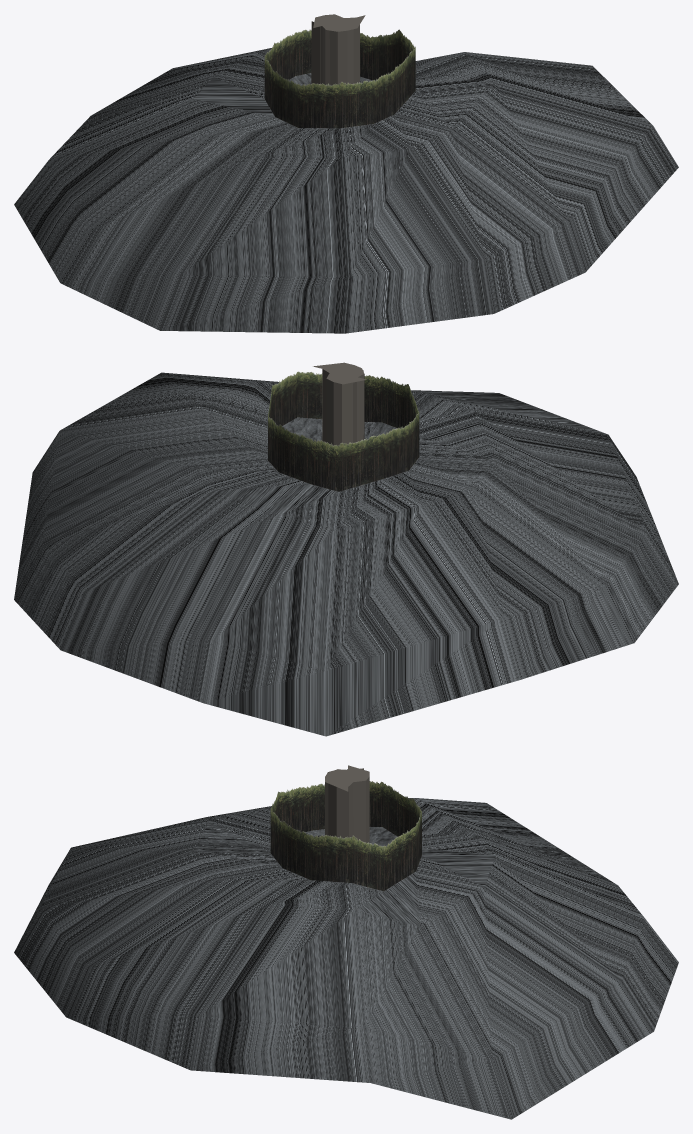
The model's file is Dragonfly_Depths.fbx.
3 views of the same model, one above another, from view 1: azimuth 30°, elevation 25°; view 2: azimuth 150°, elevation 25°; view 3: azimuth 270°, elevation 25° (orthographic). The views are drawn at different scales.
Visible parts, largest first — view 1: ExternalScenery_Shadows, Trees, PlayerClipping; view 2: ExternalScenery_Shadows, Trees, PlayerClipping, Caves; view 3: ExternalScenery_Shadows, Trees, PlayerClipping.
Part boxes in pixels (x1,y1,x2,y2): ExternalScenery_Shadows: [14, 48, 678, 333]; Trees: [264, 29, 415, 128]; PlayerClipping: [311, 14, 365, 85]; ExternalScenery_Shadows: [14, 372, 678, 736]; Trees: [268, 371, 419, 491]; PlayerClipping: [313, 362, 366, 445]; Caves: [282, 417, 397, 441]; ExternalScenery_Shadows: [14, 798, 678, 1119]; Trees: [270, 781, 421, 891]; PlayerClipping: [325, 765, 369, 842].
Size of the model in its own units: 140 by 51.35 by 138.
